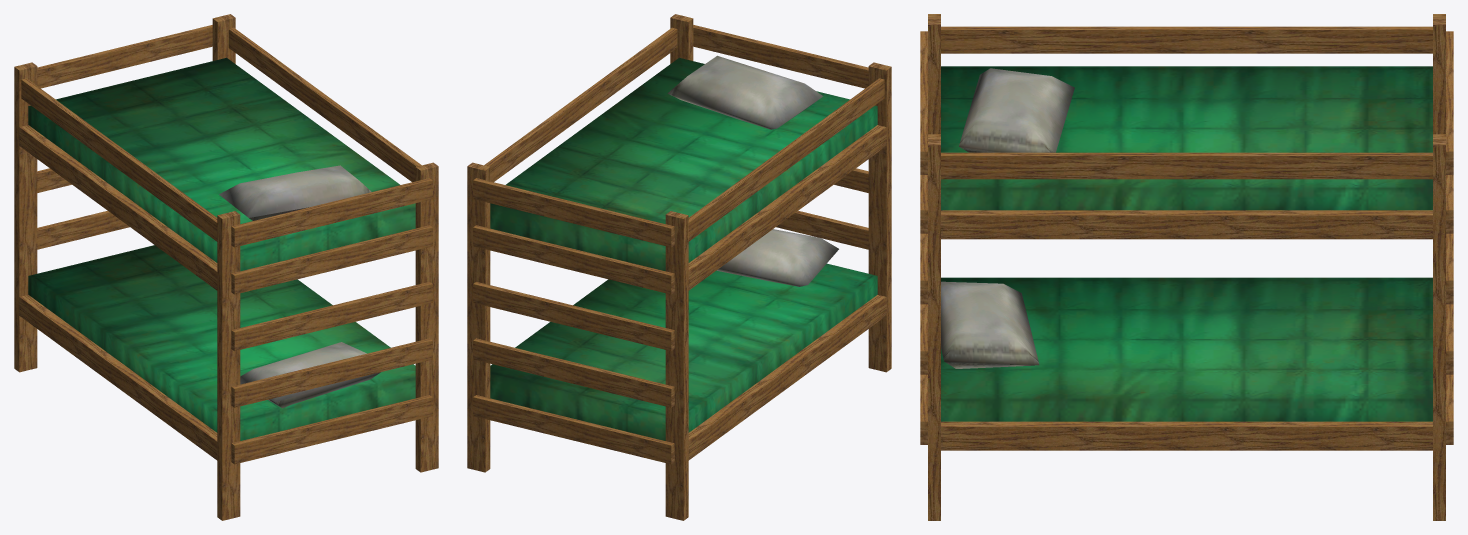
The model's file is bunkbedwood.fbx.
The picture shows the model from 3 angles, left to right: view 1: azimuth 30°, elevation 25°; view 2: azimuth 150°, elevation 25°; view 3: azimuth 270°, elevation 25°; orthographic projection. The views are drawn at different scales.
Visible parts, largest first — view 1: mesh_20, mesh_21, mesh_2, mesh_1, mesh_0, mesh_3, mesh_18, mesh_13, mesh_22, mesh_12, mesh_10, mesh_11 (+8 smaller); view 2: mesh_20, mesh_21, mesh_1, mesh_22, mesh_2, mesh_0, mesh_3, mesh_17, mesh_13, mesh_12, mesh_4, mesh_5 (+8 smaller); view 3: mesh_21, mesh_20, mesh_16, mesh_19, mesh_12, mesh_13, mesh_22, mesh_23, mesh_17, mesh_18, mesh_1, mesh_2 (+2 smaller).
Boxes of the visible parts, <box> form: mesh_20: <box>28,57,415,271</box>; mesh_21: <box>28,245,415,440</box>; mesh_2: <box>217,211,240,520</box>; mesh_1: <box>14,62,37,372</box>; mesh_0: <box>19,295,217,460</box>; mesh_3: <box>19,125,217,290</box>; mesh_18: <box>415,162,438,472</box>; mesh_13: <box>21,78,217,241</box>; mesh_22: <box>219,165,371,220</box>; mesh_12: <box>228,27,421,182</box>; mesh_10: <box>231,225,432,294</box>; mesh_11: <box>231,178,432,247</box>; mesh_20: <box>490,57,877,271</box>; mesh_21: <box>490,263,877,440</box>; mesh_1: <box>665,211,688,520</box>; mesh_22: <box>667,55,823,129</box>; mesh_2: <box>868,62,891,372</box>; mesh_0: <box>688,295,886,460</box>; mesh_3: <box>688,125,886,290</box>; mesh_17: <box>467,162,490,472</box>; mesh_13: <box>688,78,884,241</box>; mesh_12: <box>484,27,677,182</box>; mesh_4: <box>473,178,674,247</box>; mesh_5: <box>473,225,674,294</box>; mesh_21: <box>941,277,1432,421</box>; mesh_20: <box>941,66,1432,210</box>; mesh_16: <box>941,421,1432,450</box>; mesh_19: <box>941,210,1432,239</box>; mesh_12: <box>941,152,1432,179</box>; mesh_13: <box>941,26,1432,53</box>; mesh_22: <box>959,68,1074,152</box>; mesh_23: <box>941,281,1039,368</box>; mesh_17: <box>1433,134,1445,520</box>; mesh_18: <box>928,134,940,520</box>; mesh_1: <box>1433,14,1445,134</box>; mesh_2: <box>928,14,940,134</box>.
Bounding box in the file's own units: 120 × 160 × 206.
1 material, 1 textured.
